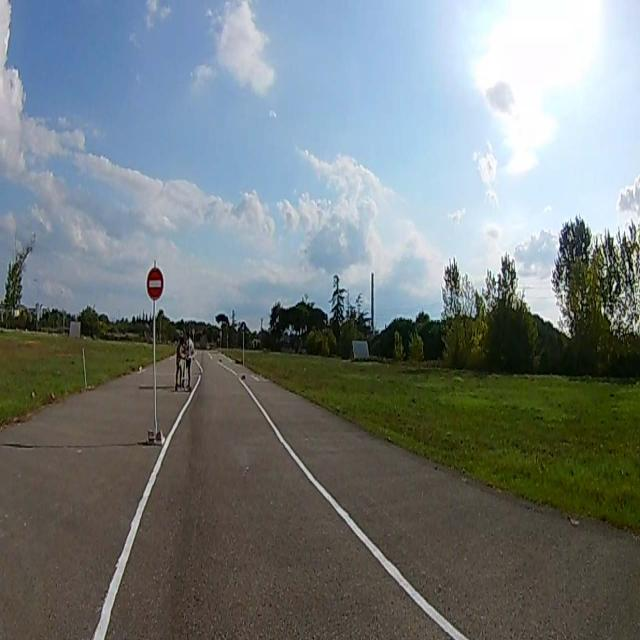girisyok: (147, 269, 163, 298)
